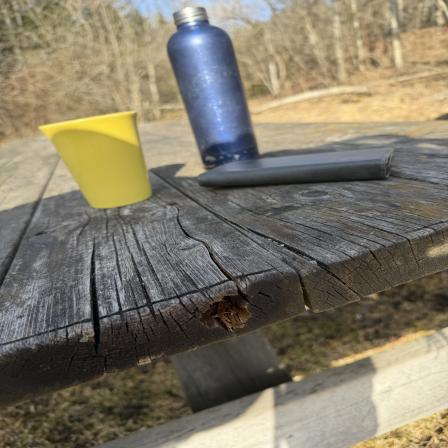blue_bottle: (166, 7, 262, 171)
phone: (196, 148, 400, 189)
yellow_cup: (41, 112, 163, 210)
